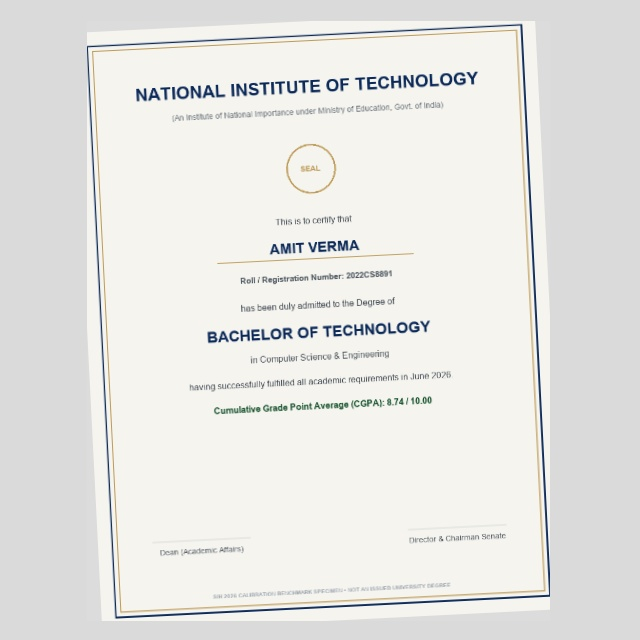marksheet: (87, 21, 550, 621)
